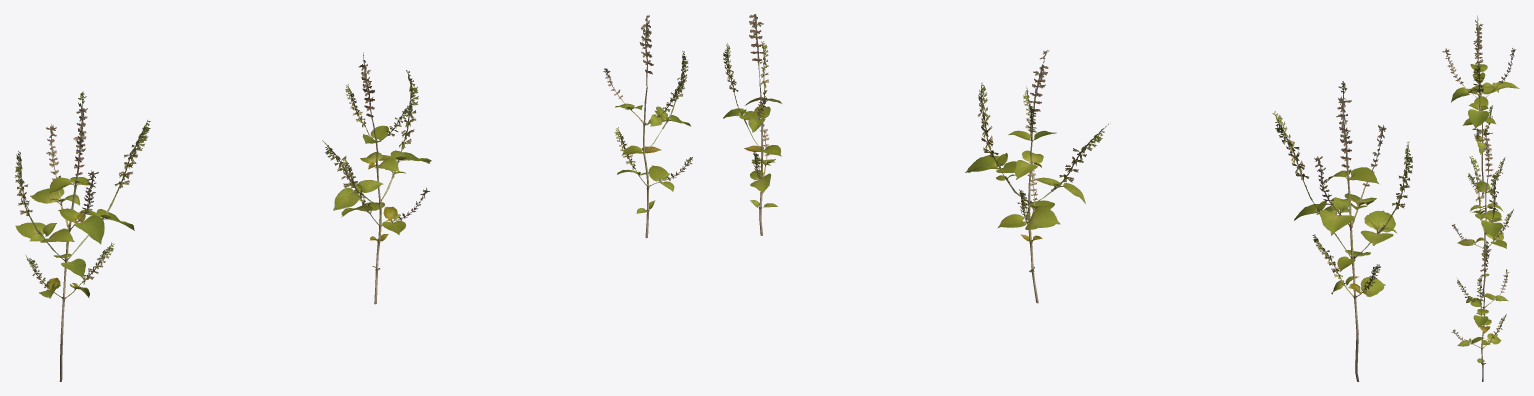
Rendered from shrub_03.glb.
3 renders of one model, left to right at view 1: azimuth 30°, elevation 25°; view 2: azimuth 150°, elevation 25°; view 3: azimuth 270°, elevation 25°, orthographic. The views are drawn at different scales.
Visible parts, largest first — view 1: shrub_03_a, shrub_03_b, shrub_03_c; view 2: shrub_03_a, shrub_03_b, shrub_03_c; view 3: shrub_03_a, shrub_03_b, shrub_03_c.
Part boxes in pixels (<box>): shrub_03_a: <box>15,91,150,381</box>; shrub_03_b: <box>322,52,431,304</box>; shrub_03_c: <box>603,15,692,238</box>; shrub_03_a: <box>1272,81,1412,381</box>; shrub_03_b: <box>965,50,1108,303</box>; shrub_03_c: <box>723,14,782,235</box>; shrub_03_a: <box>1442,15,1519,195</box>; shrub_03_b: <box>1452,128,1513,295</box>; shrub_03_c: <box>1451,240,1509,381</box>.
Bounding box in the file's own units: 0.9854 × 0.4028 × 0.1512.
Materials: 1 (1 with a texture image).
